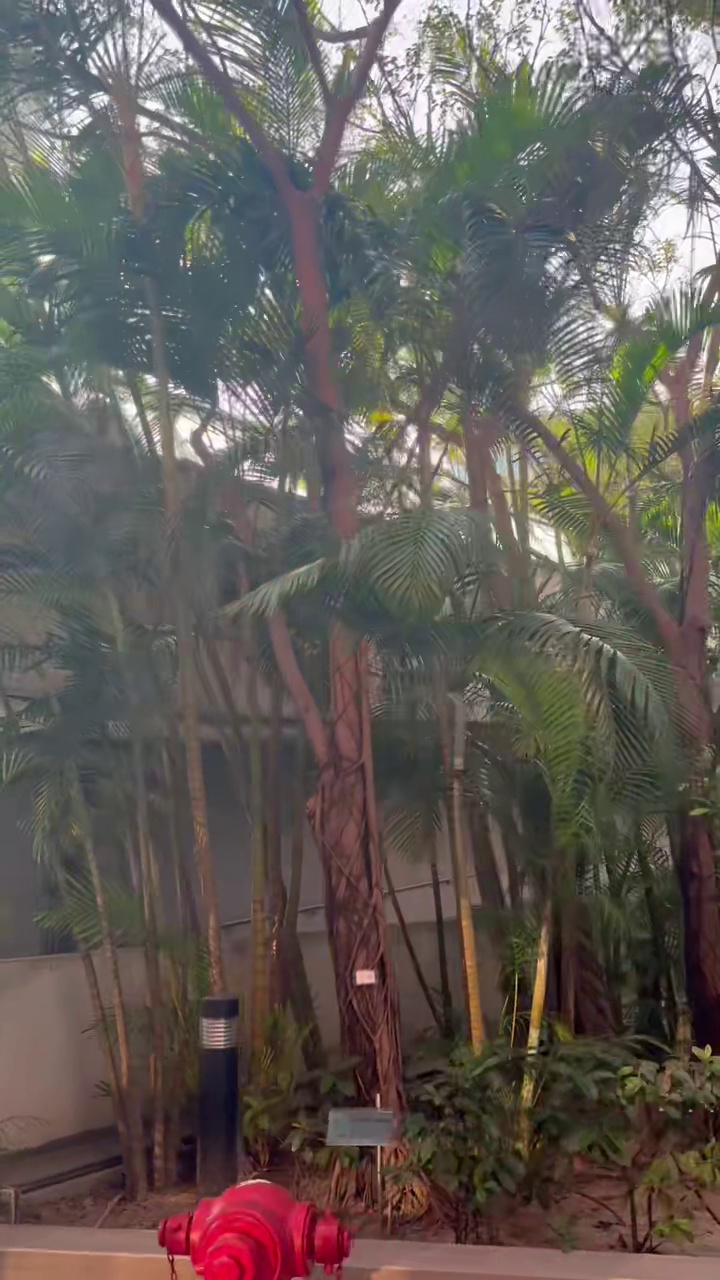Ficus benjamina: (152, 0, 404, 1109)
